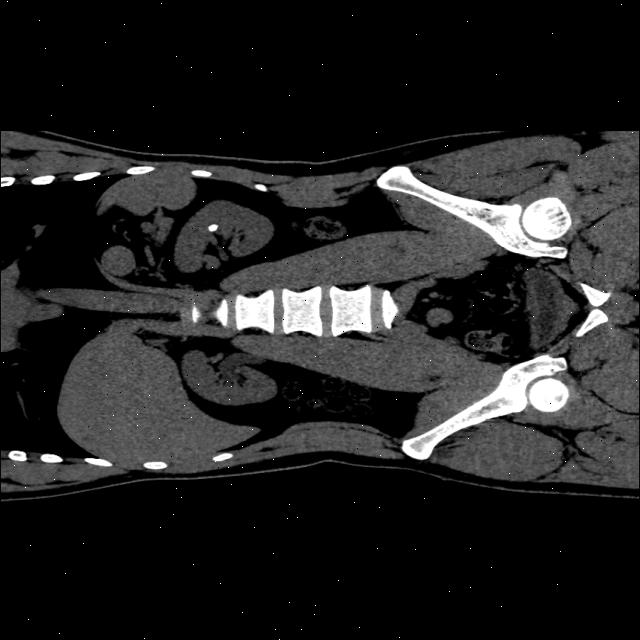kidneystone: (207, 222, 219, 231)
